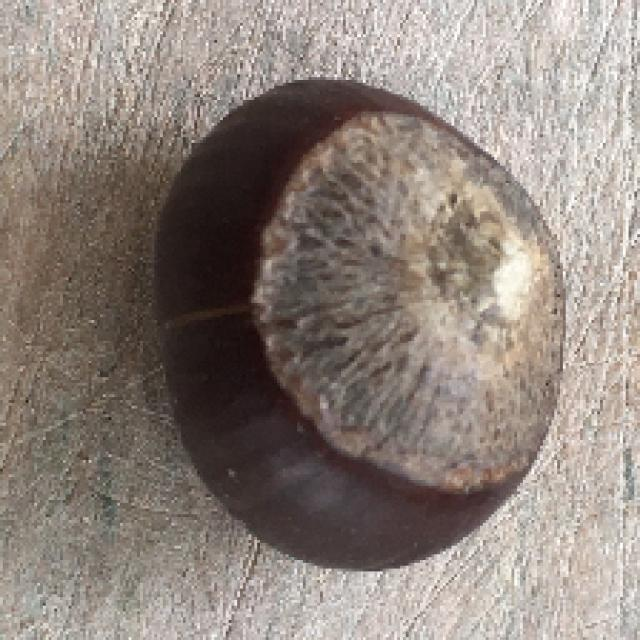DamagedHazelnut: (159, 78, 564, 572)
